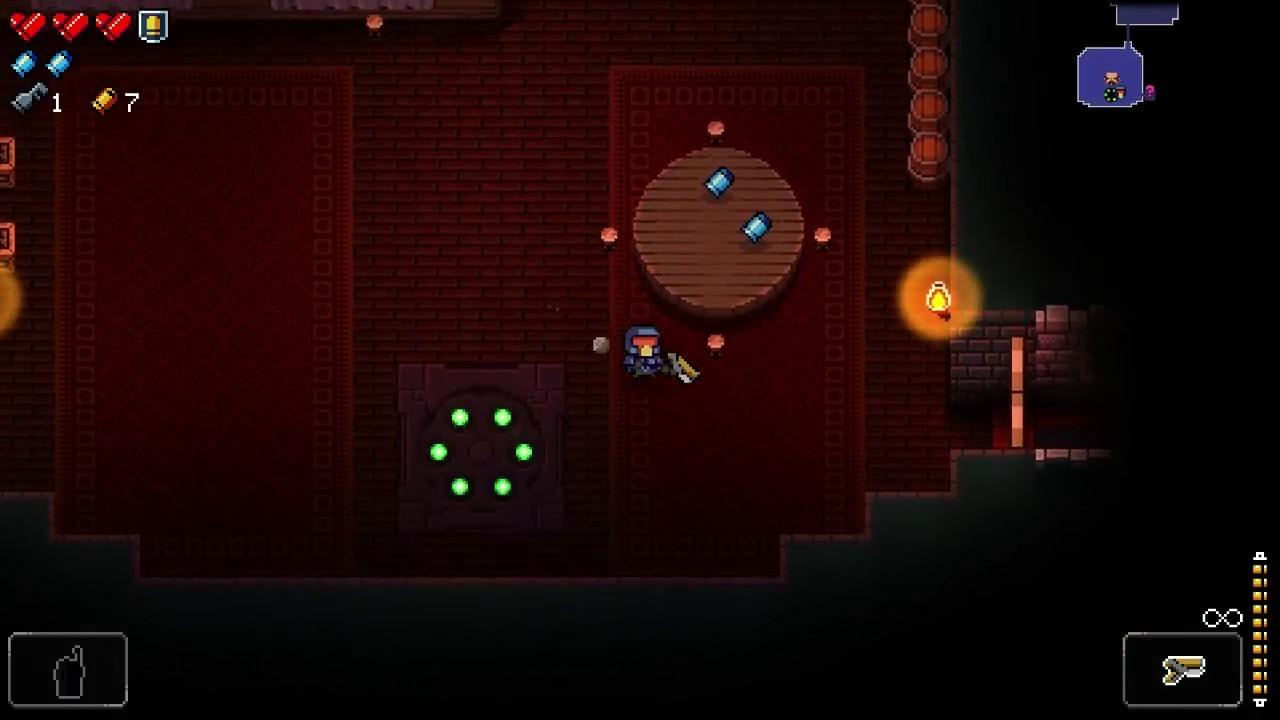door: (1009, 337, 1025, 449)
player: (624, 326, 663, 380)
teleporter: (395, 362, 568, 537)
